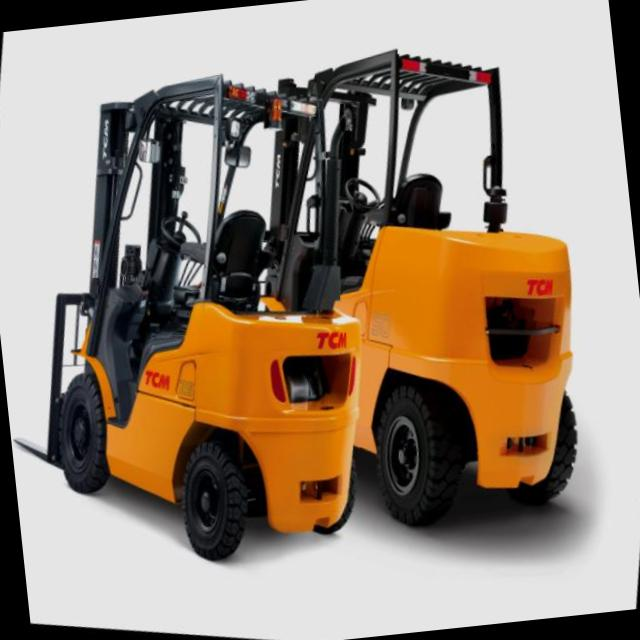forklift: (2, 22, 436, 580), (305, 29, 640, 566)
